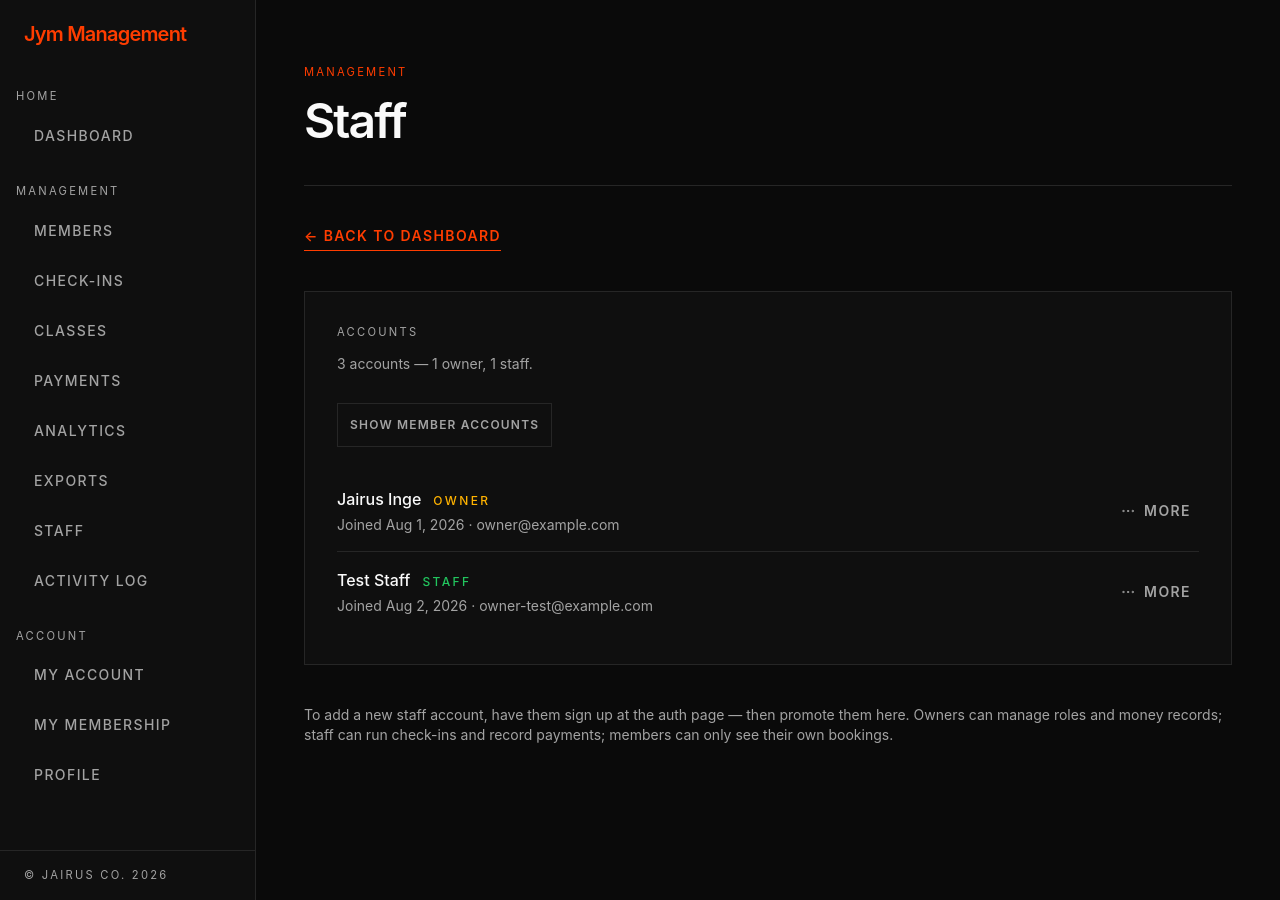
Test: StaffPage › hides member accounts behind an explicit toggle
Check: the text "Joined Aug 1, 2026 · owner@example.com" is shown, box [337, 515, 620, 535]
Check: the text "stray@example.com" is not shown
Step 1. Click the button "Show member accounts" → (445, 425), box [337, 403, 552, 447]
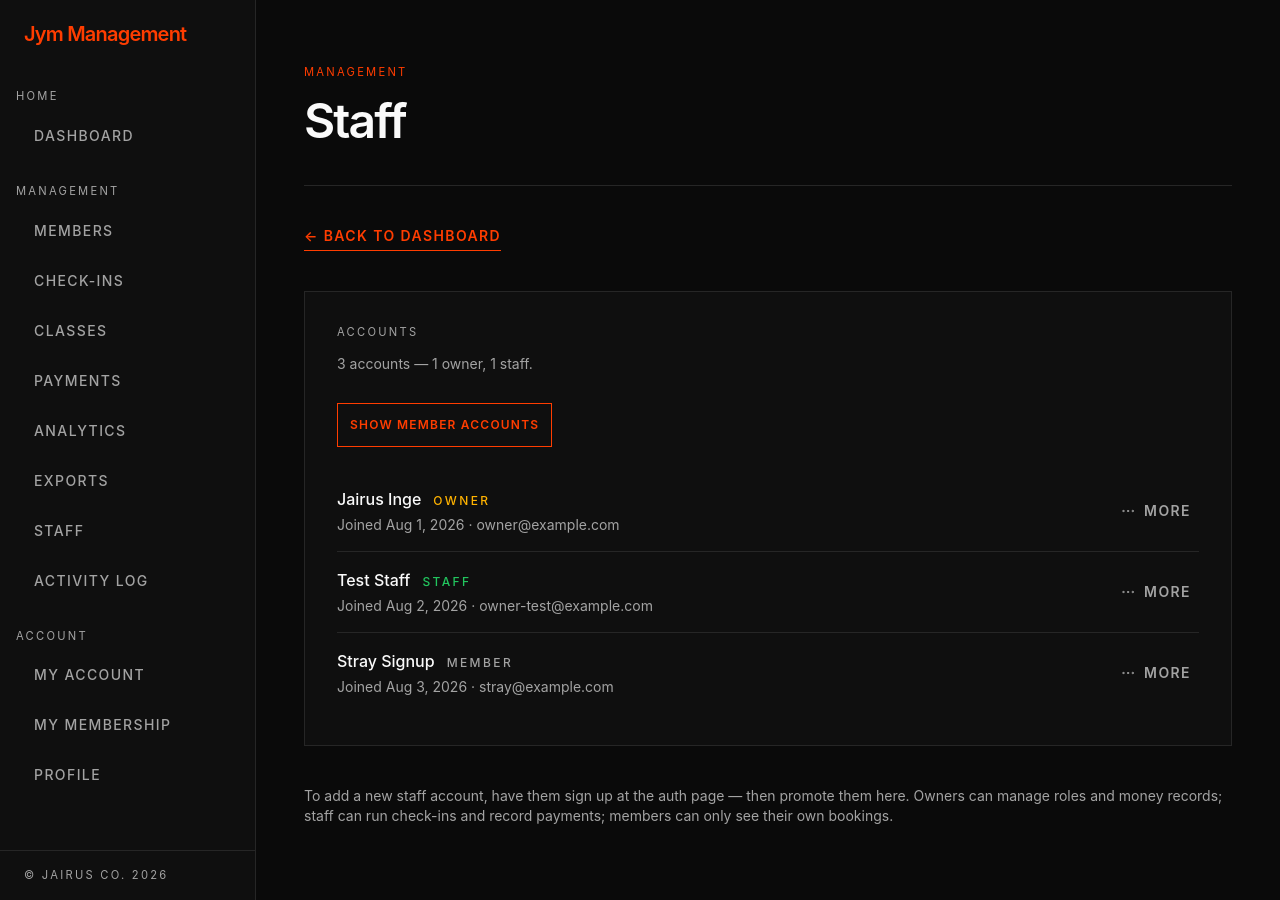
Check: the text "Joined Aug 3, 2026 · stray@example.com" is shown, box [337, 677, 614, 697]
